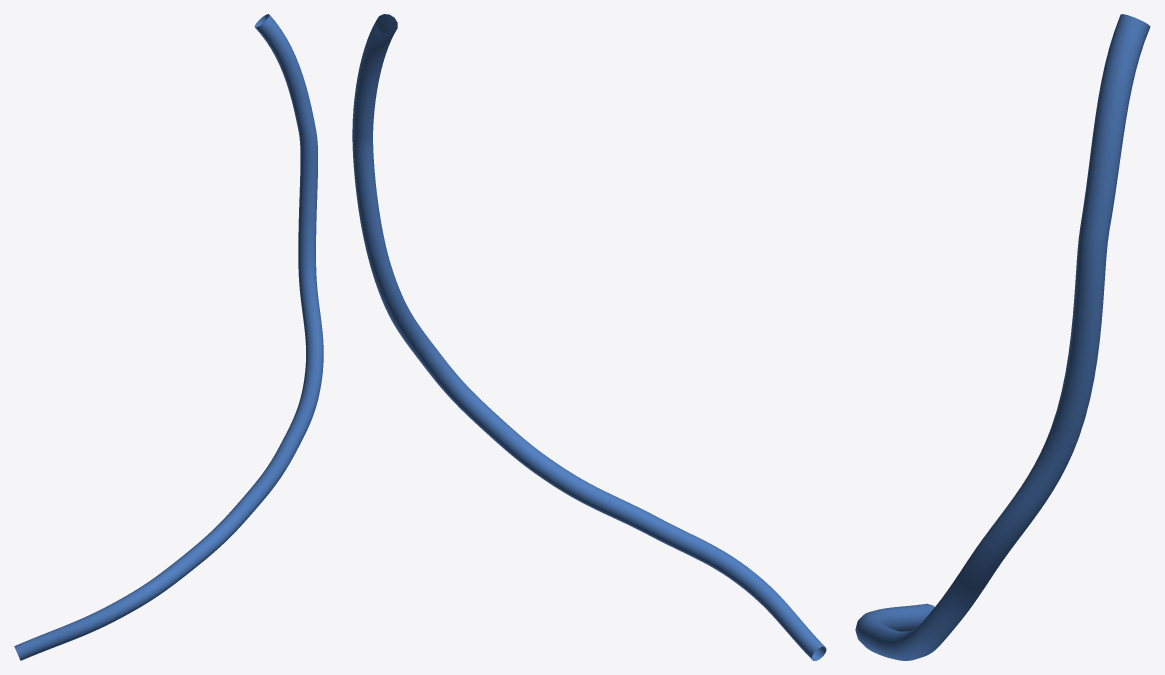
3 renders of one model, left to right at view 1: azimuth 30°, elevation 25°; view 2: azimuth 150°, elevation 25°; view 3: azimuth 270°, elevation 25°, orthographic. The views are drawn at different scales.
Visible parts, largest first — view 1: 左侧足背静脉弓; view 2: 左侧足背静脉弓; view 3: 左侧足背静脉弓.
Part boxes in pixels (bbox=[...]): 左侧足背静脉弓: bbox=[14, 14, 323, 660]; 左侧足背静脉弓: bbox=[352, 14, 826, 660]; 左侧足背静脉弓: bbox=[855, 14, 1150, 660].
Size of the model in its own units: 0.0671 by 0.0953 by 0.0295.
